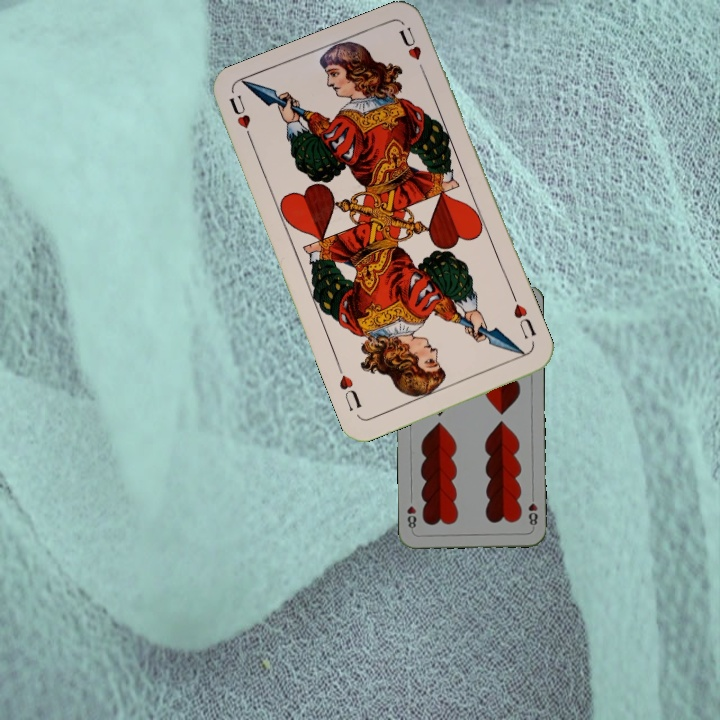H8: (525, 490, 540, 531)
HU: (225, 91, 257, 148), (509, 299, 539, 342)
